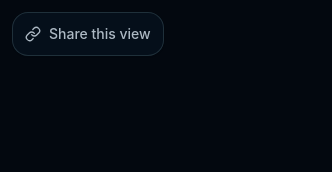
Test: ShareButton › copies the link and says so
This screenshot has width=332, height=172.
Click the button "Share this view" at (88, 34), box [12,12,164,56]
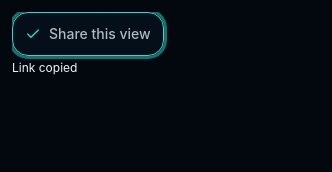
Expected: the message reads "Link copied", [12,60,77,75]
